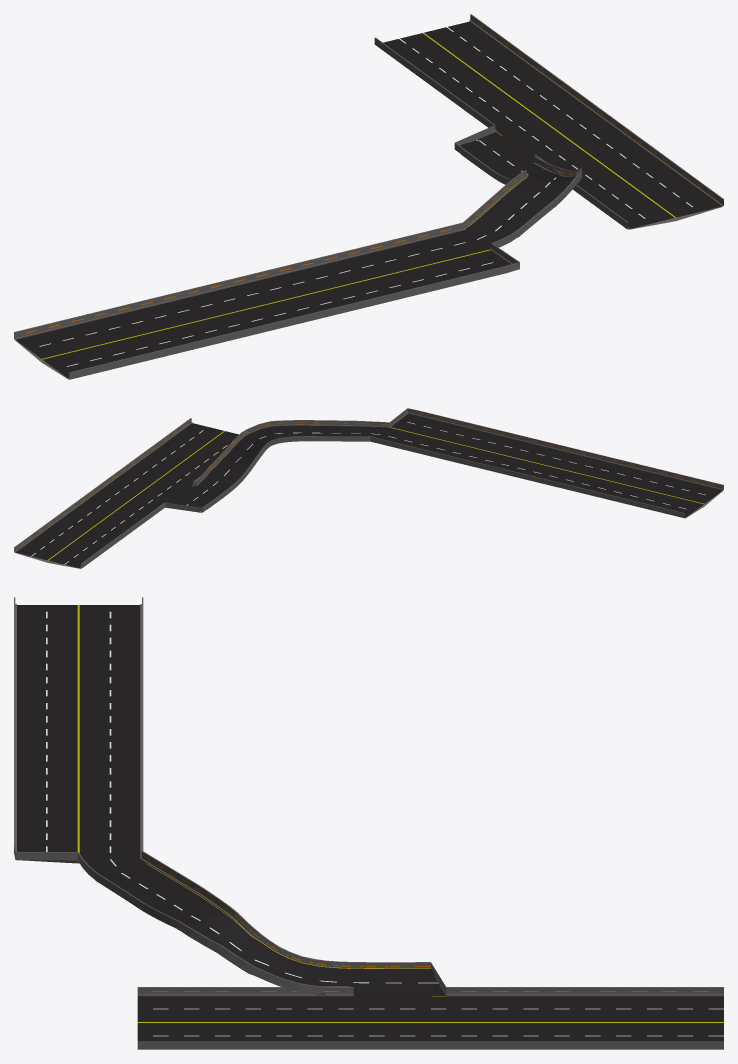
The model's file is street_turnoff(1).fbx.
The picture shows the model from 3 angles, top to bottom: view 1: azimuth 30°, elevation 25°; view 2: azimuth 150°, elevation 25°; view 3: azimuth 270°, elevation 25°; orthographic projection. The views are drawn at different scales.
Visible parts, largest first — view 1: Street.001, Street, Barrier.004, Barrier.006, Barrier, Barrier.002, Barrier.005; view 2: Street.001, Street, Barrier.004, Barrier.006, Barrier, Barrier.005, Barrier.002; view 3: Street.001, Street, Barrier, Barrier.002, Barrier.006, Barrier.005, Barrier.004, Barrier.003.
Part boxes in pixels (x1,y1,x2,y2): Street.001: [15, 136, 581, 378]; Street: [383, 21, 721, 228]; Barrier.004: [14, 242, 438, 379]; Barrier.006: [383, 156, 582, 289]; Barrier: [374, 14, 590, 130]; Barrier.002: [534, 141, 723, 229]; Barrier.005: [461, 147, 528, 229]; Street.001: [170, 413, 722, 517]; Street: [16, 423, 238, 568]; Barrier.004: [426, 422, 723, 518]; Barrier.006: [195, 408, 465, 485]; Barrier: [14, 486, 165, 568]; Barrier.005: [207, 436, 370, 509]; Barrier.002: [135, 418, 212, 486]; Street.001: [17, 605, 434, 996]; Street: [137, 996, 723, 1041]; Barrier: [446, 987, 723, 1049]; Barrier.002: [137, 987, 353, 1049]; Barrier.006: [14, 805, 348, 994]; Barrier.005: [140, 851, 415, 968]; Barrier.004: [14, 597, 143, 812]; Barrier.003: [323, 1041, 446, 1049].
Bounding box in the file's own units: 52341 × 3585 × 39193.
